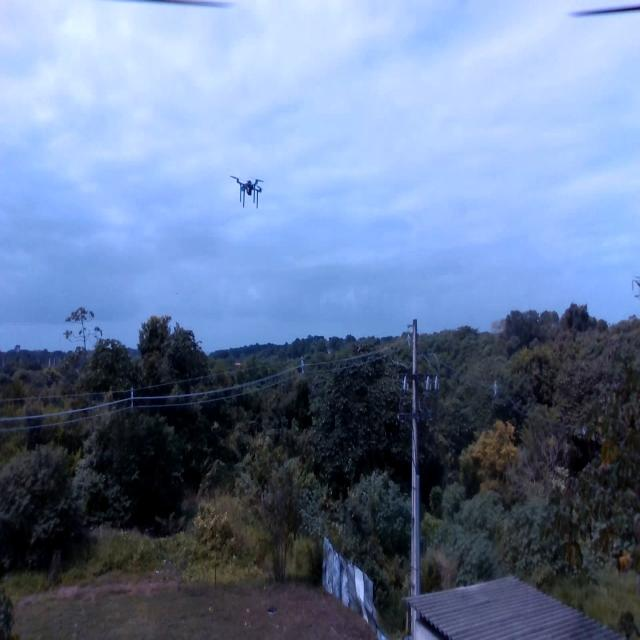-uav-: (222, 160, 276, 224)
